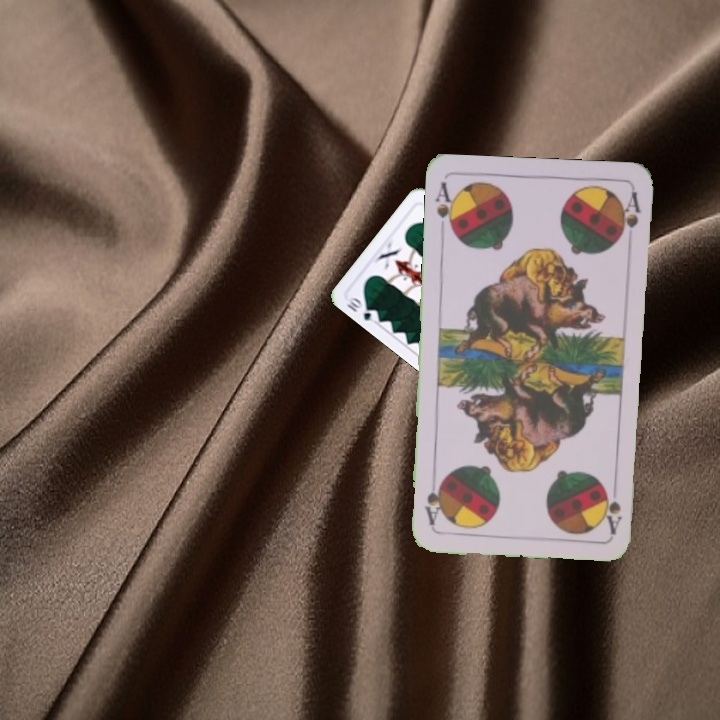G10: (343, 292, 382, 326)
SA: (431, 178, 459, 238), (603, 476, 625, 535)
